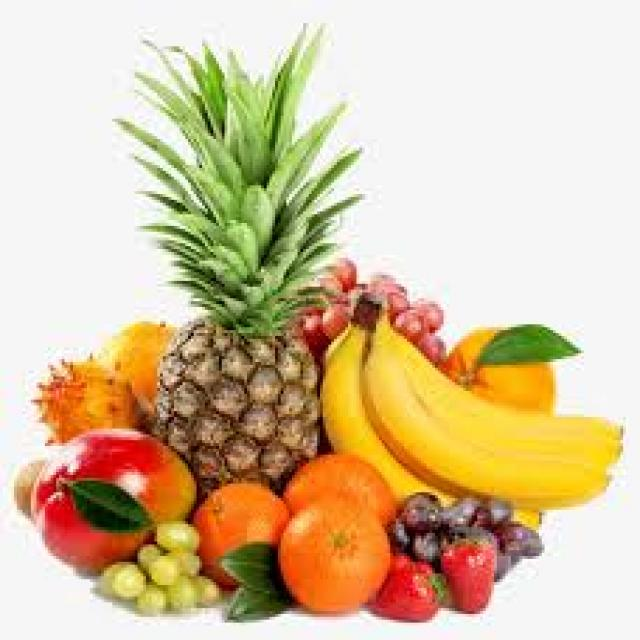organic waste: (113, 23, 360, 336), (362, 301, 612, 507), (314, 296, 542, 518), (374, 310, 620, 463), (152, 312, 320, 483), (28, 423, 197, 573), (275, 495, 393, 611), (31, 350, 146, 440), (188, 481, 284, 585), (441, 324, 553, 412), (278, 449, 393, 524), (110, 316, 172, 394), (368, 556, 438, 620), (65, 478, 146, 530), (477, 321, 578, 362), (441, 533, 494, 611), (11, 458, 62, 516), (224, 576, 294, 617), (222, 542, 280, 590), (460, 522, 511, 574), (499, 518, 542, 556), (398, 487, 438, 524), (154, 516, 200, 548), (390, 307, 430, 342), (474, 492, 508, 530), (407, 524, 438, 565), (312, 298, 348, 333), (435, 492, 472, 522), (95, 559, 132, 588), (163, 579, 196, 611), (112, 562, 149, 588), (317, 261, 343, 298), (328, 255, 354, 292), (148, 550, 180, 576), (295, 312, 320, 344), (137, 582, 163, 611), (412, 304, 440, 330), (194, 574, 219, 602), (385, 512, 404, 548), (418, 333, 444, 359), (365, 272, 390, 298), (376, 284, 404, 307), (177, 550, 199, 576), (385, 292, 407, 313), (345, 275, 365, 295), (135, 541, 157, 559)
